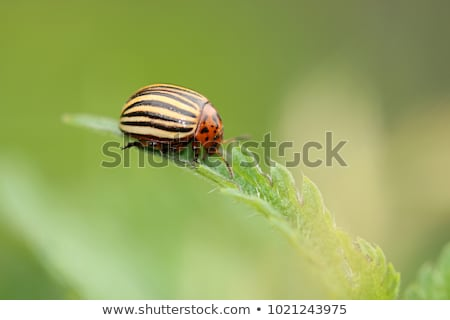hrosc: (120, 78, 231, 156)
